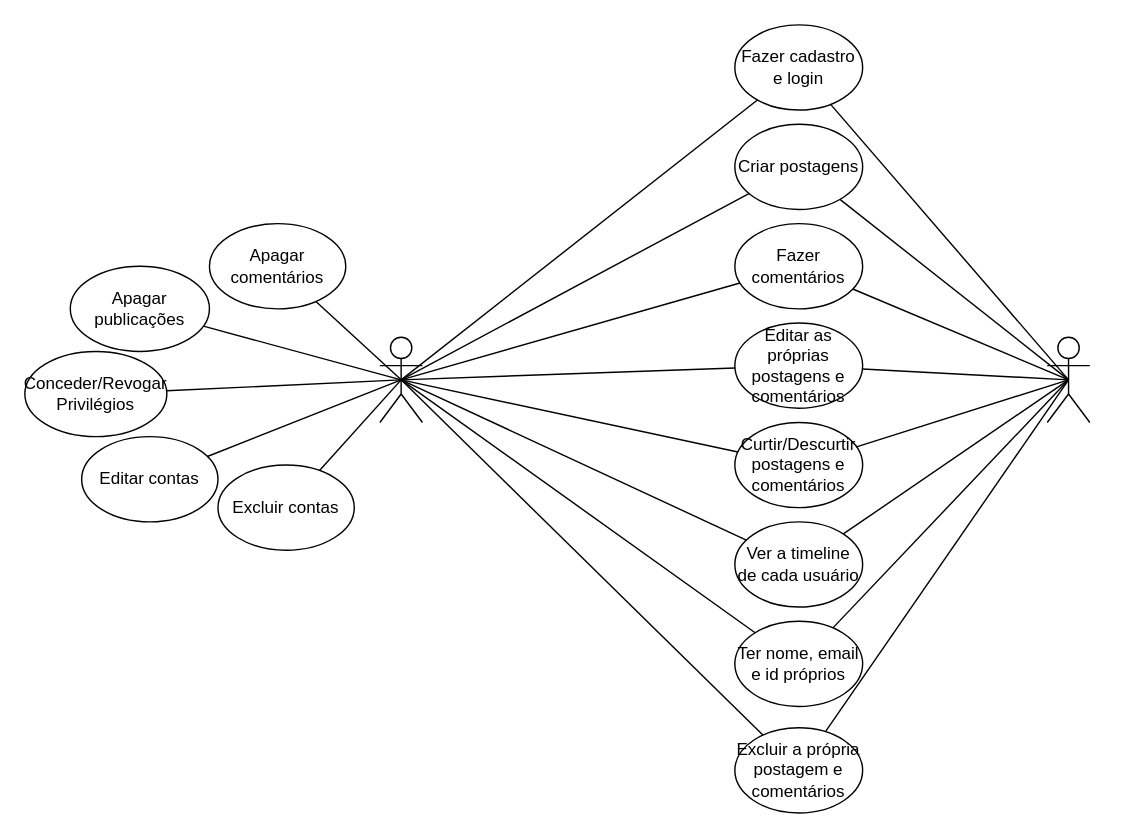
This 1122x838 diagram has some shape labels left out. Each missing label, with the centre of its shape:
"Administrador" belongs at point 400,379.
"Usuário" belongs at point 1068,379.
